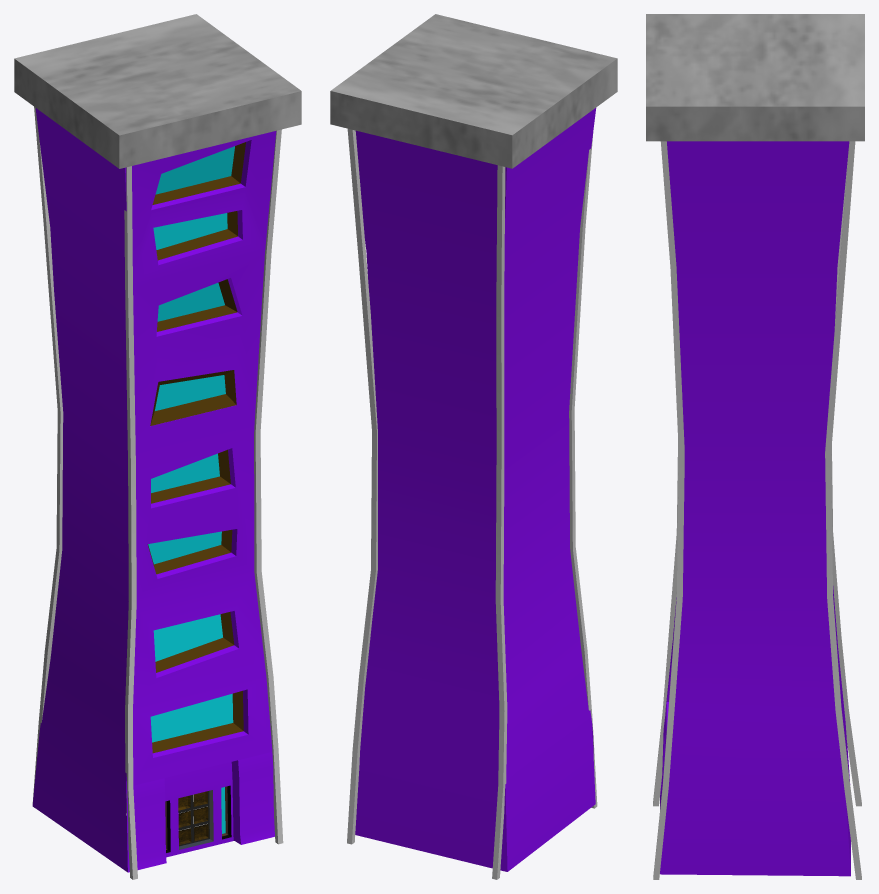
File: PredioAltoFino-RoxoLOD0.fbx
The picture shows the model from 3 angles, left to right: view 1: azimuth 30°, elevation 25°; view 2: azimuth 150°, elevation 25°; view 3: azimuth 270°, elevation 25°; orthographic projection. The views are drawn at different scales.
Visible parts, largest first — view 1: PredioAltoFinoLOD0; view 2: PredioAltoFinoLOD0; view 3: PredioAltoFinoLOD0.
Part boxes in pixels (x1,y1,x2,y2): PredioAltoFinoLOD0: (14, 14, 301, 879); PredioAltoFinoLOD0: (330, 14, 617, 879); PredioAltoFinoLOD0: (646, 14, 864, 879).
Size of the model in its own units: 635 by 2498 by 635.
